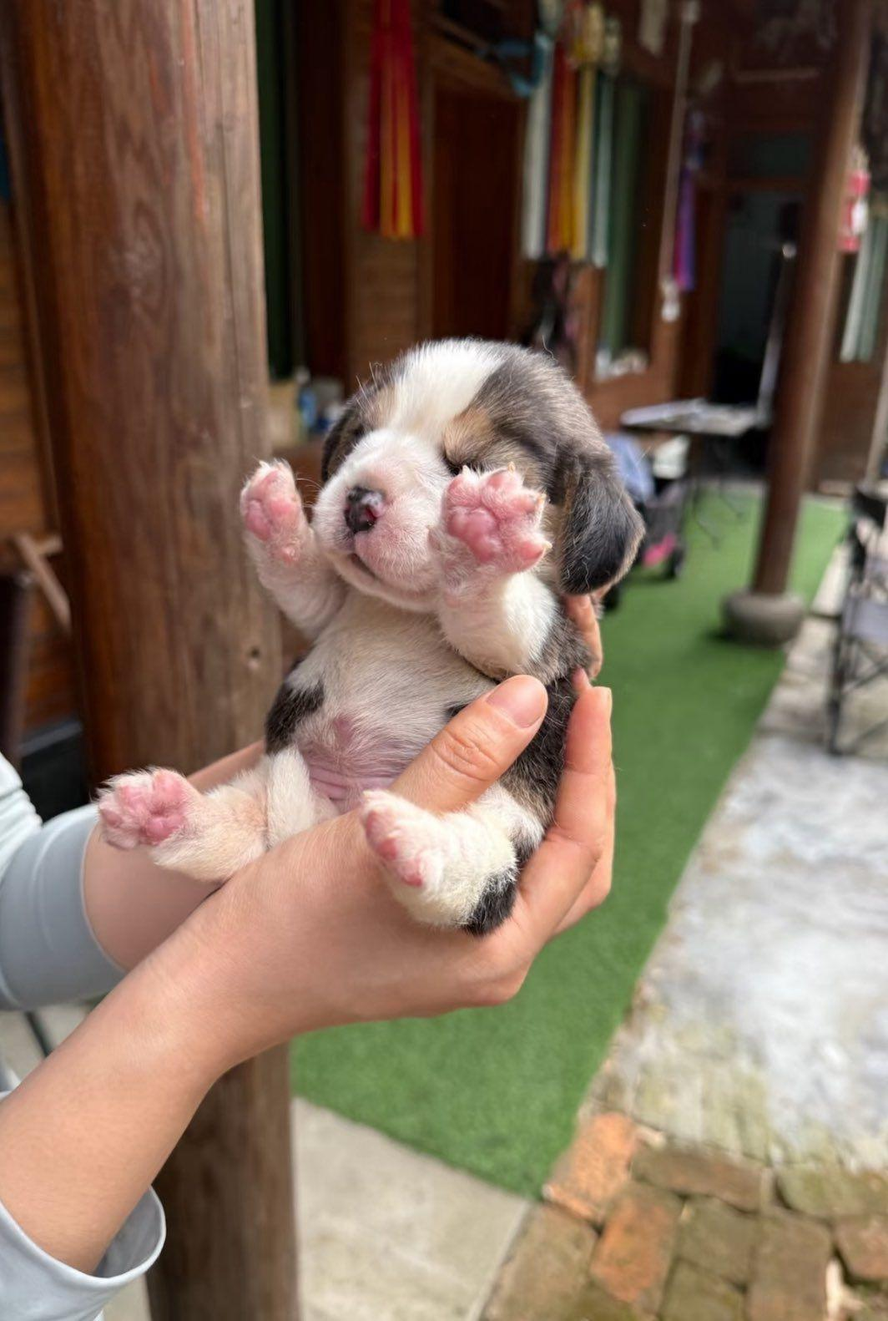puppy-dog: (92, 334, 651, 939)
